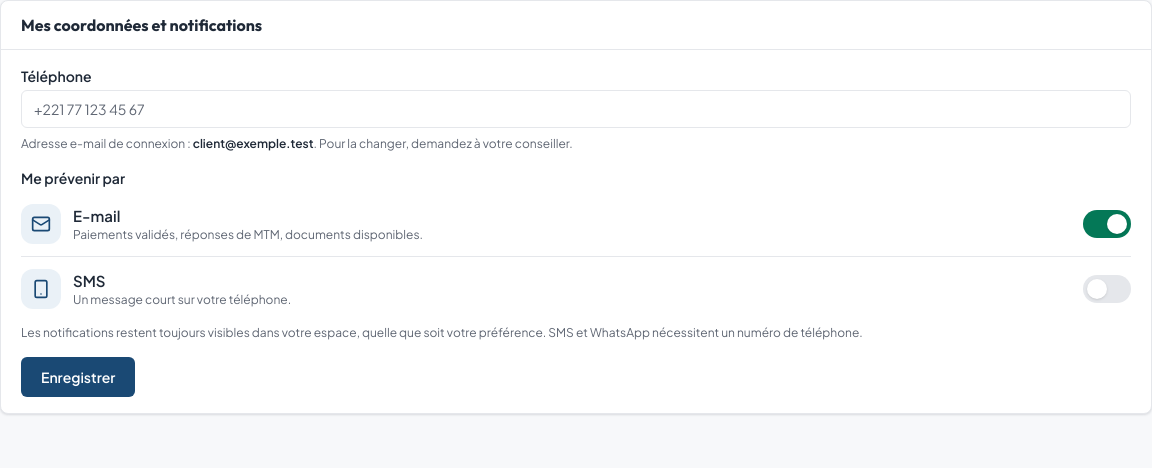
Test case: PreferencesCompte › affiche le message du serveur quand l’enregistrement est refusé
Click the switch named "SMS" at [1107, 289], box [1083,275,1131,303]
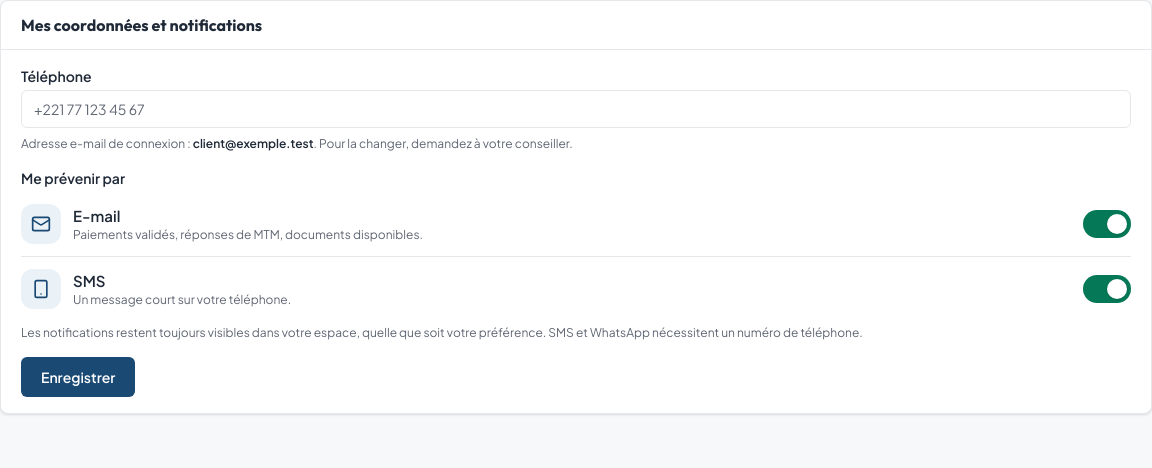
Click the button "Enregistrer" at [78, 377], box [21,357,135,397]
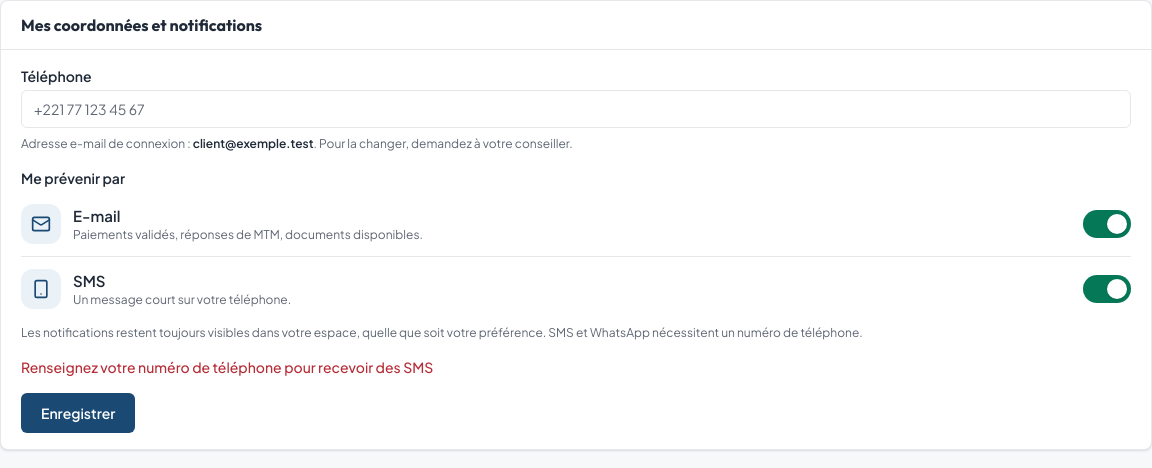
Now the message shows "Renseignez votre numéro", box [21,358,433,376]
